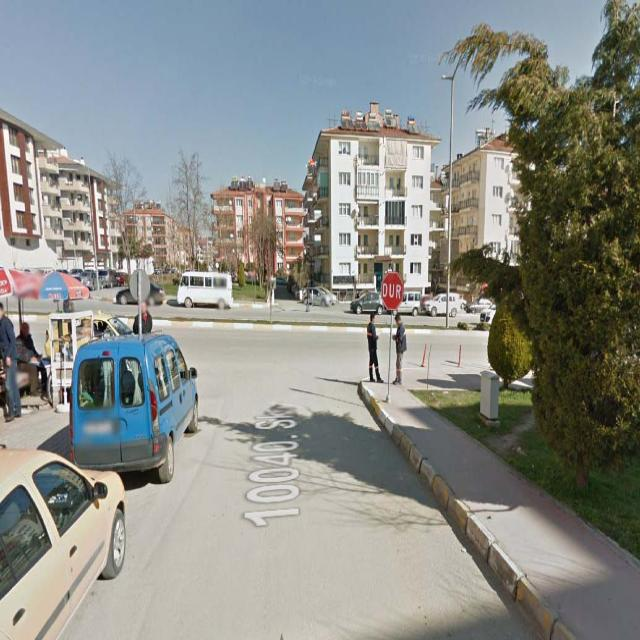dur: (381, 272, 404, 312)
